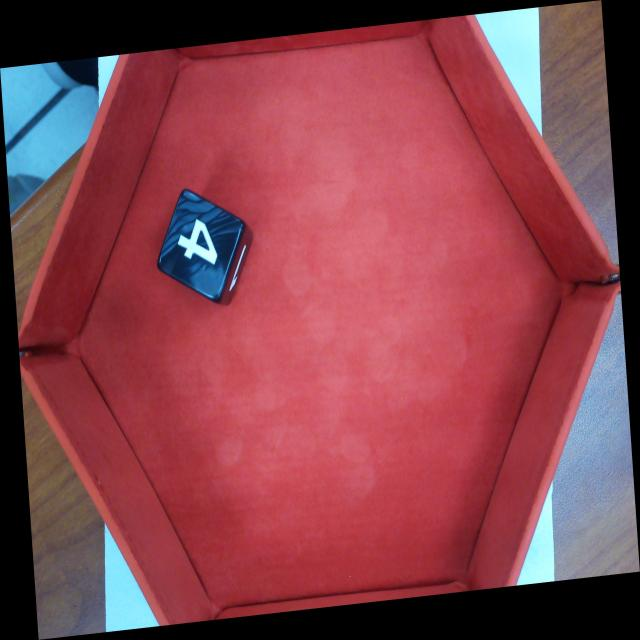dice: (154, 186, 248, 307)
